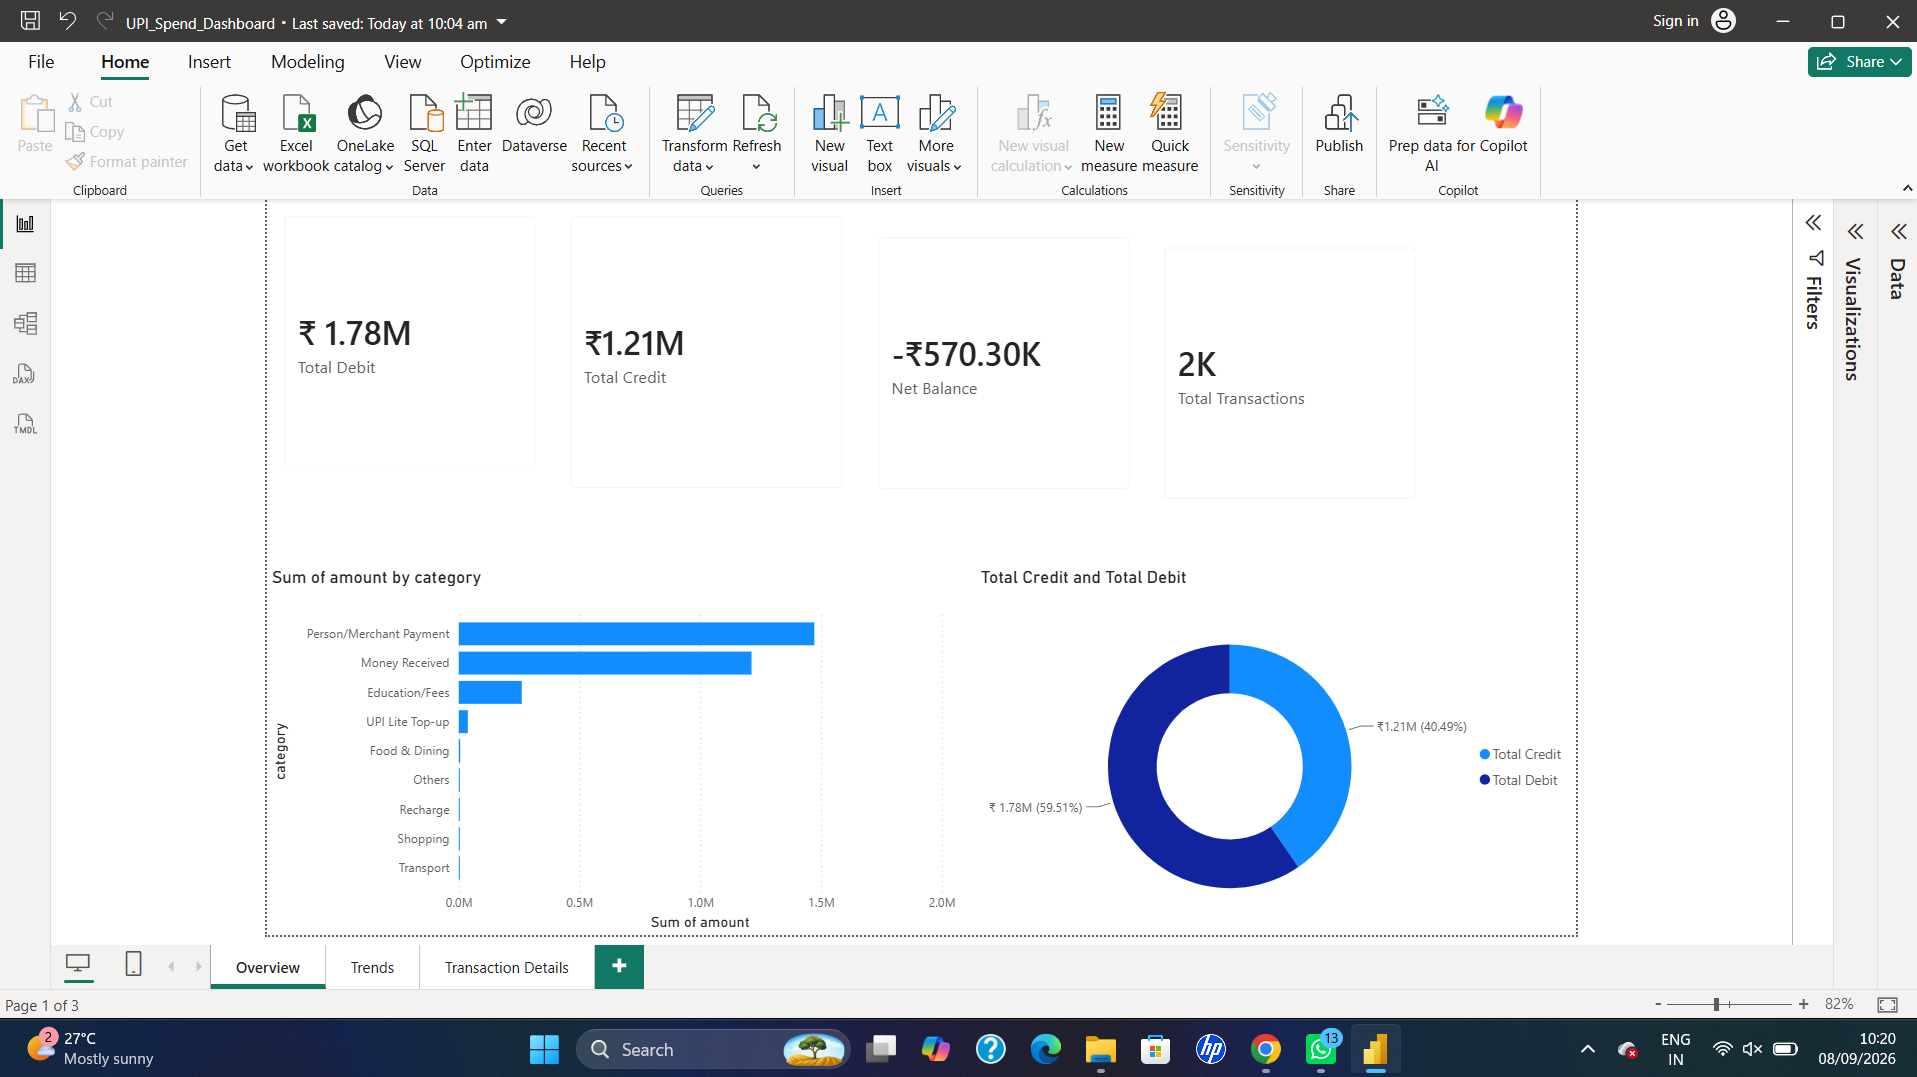

Layout of this report page (visuals, bound fields, positions):
{"tool":"powerbi","page":{"name":"Overview","canvas":[1280,720],"ordinal":0},"visuals":[{"type":"cardVisual","fields":{"Data":["Transactions.Total Debit"]},"box":[0,0,280,280],"z":0},{"type":"cardVisual","fields":{"Data":["Transactions.Total Credit"]},"box":[279.9,0,300,300],"z":1000},{"type":"cardVisual","fields":{"Data":["Transactions.Net Balance"]},"box":[580.4,20.6,280,280],"z":2000},{"type":"cardVisual","fields":{"Data":["Transactions.Total Transactions"]},"box":[860.4,30.2,280,280],"z":3000},{"type":"barChart","fields":{"Category":["Transactions.category"],"Y":["Sum(Transactions.amount)"]},"box":[0,359.5,679.2,360.9],"z":4000},{"type":"donutChart","fields":{"Y":["Transactions.Total Credit","Transactions.Total Debit"]},"box":[693,359.5,587.3,360.9],"z":5000}]}

Visuals, with their boxes on the page's 1280x720 design canvas (x1, y1, x2, y2). These are canvas units, not pixel positions in the 1917x1077 screenshot, which may show the page scaled, cropped or inside an application window:
cardVisual - Transactions.Total Debit: l=0, t=0, r=280, b=280
cardVisual - Transactions.Total Credit: l=280, t=0, r=580, b=300
cardVisual - Transactions.Net Balance: l=580, t=21, r=860, b=301
cardVisual - Transactions.Total Transactions: l=860, t=30, r=1140, b=310
barChart - Transactions.category x Sum(Transactions.amount): l=0, t=360, r=679, b=720
donutChart - Transactions.Total Credit x Transactions.Total Debit: l=693, t=360, r=1280, b=720
